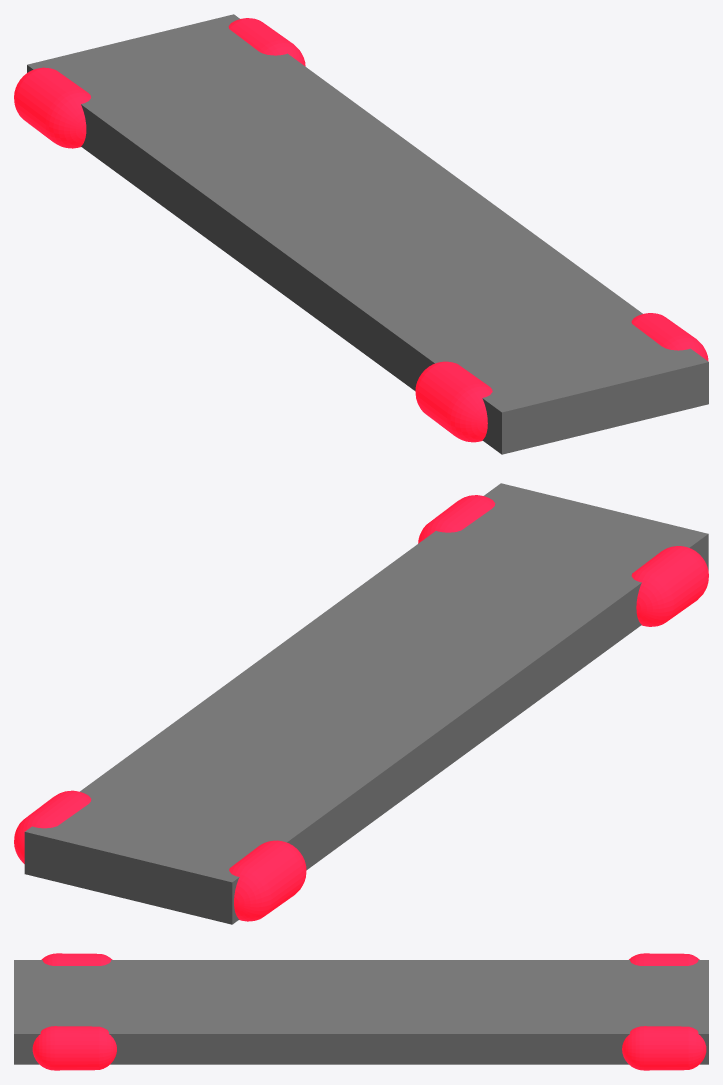
Rendered from Platform Test.fbx.
3 renders of one model, top to bottom at view 1: azimuth 30°, elevation 25°; view 2: azimuth 150°, elevation 25°; view 3: azimuth 270°, elevation 25°, orthographic. The views are drawn at different scales.
Parts seen in each view (by area): view 1: Platform, Sphere.003, Sphere.002, Sphere.001, Sphere; view 2: Platform, Sphere.002, Sphere.003, Sphere.001, Sphere; view 3: Platform, Sphere.001, Sphere, Sphere.003, Sphere.002.
Boxes of the visible parts, x1,y1,x2,y2 form: Platform: (27, 14, 708, 454); Sphere.003: (415, 361, 492, 442); Sphere.002: (14, 67, 90, 148); Sphere.001: (228, 18, 305, 66); Sphere: (631, 313, 708, 361); Platform: (24, 483, 708, 924); Sphere.002: (229, 840, 306, 921); Sphere.003: (631, 546, 708, 626); Sphere.001: (14, 790, 91, 863); Sphere: (418, 495, 495, 543); Platform: (14, 960, 708, 1064); Sphere.001: (622, 1026, 706, 1070); Sphere: (32, 1026, 116, 1070); Sphere.003: (41, 953, 112, 965); Sphere.002: (629, 953, 699, 965).
Bounding box in the file's own units: 248 × 50.84 × 795.
